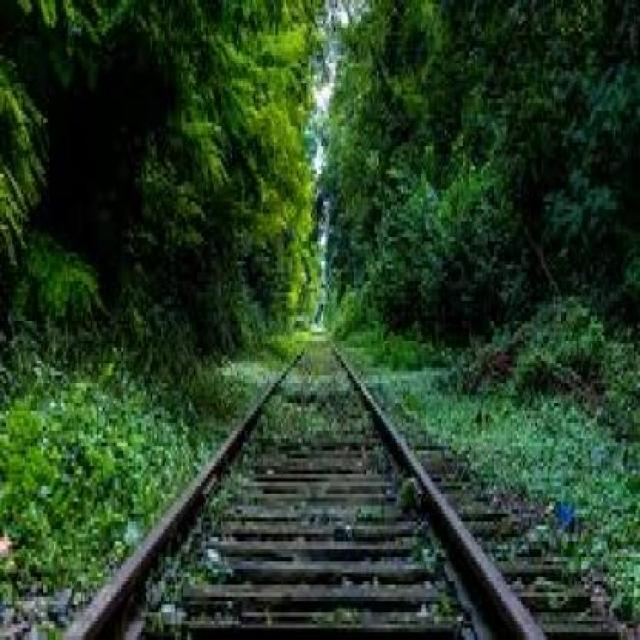rail: (56, 302, 563, 640)
